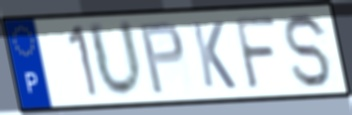1: (65, 23, 100, 100)
F: (232, 15, 279, 92)
K: (188, 20, 239, 91)
P: (137, 19, 187, 96)
S: (283, 11, 334, 91)
U: (85, 18, 147, 101)
